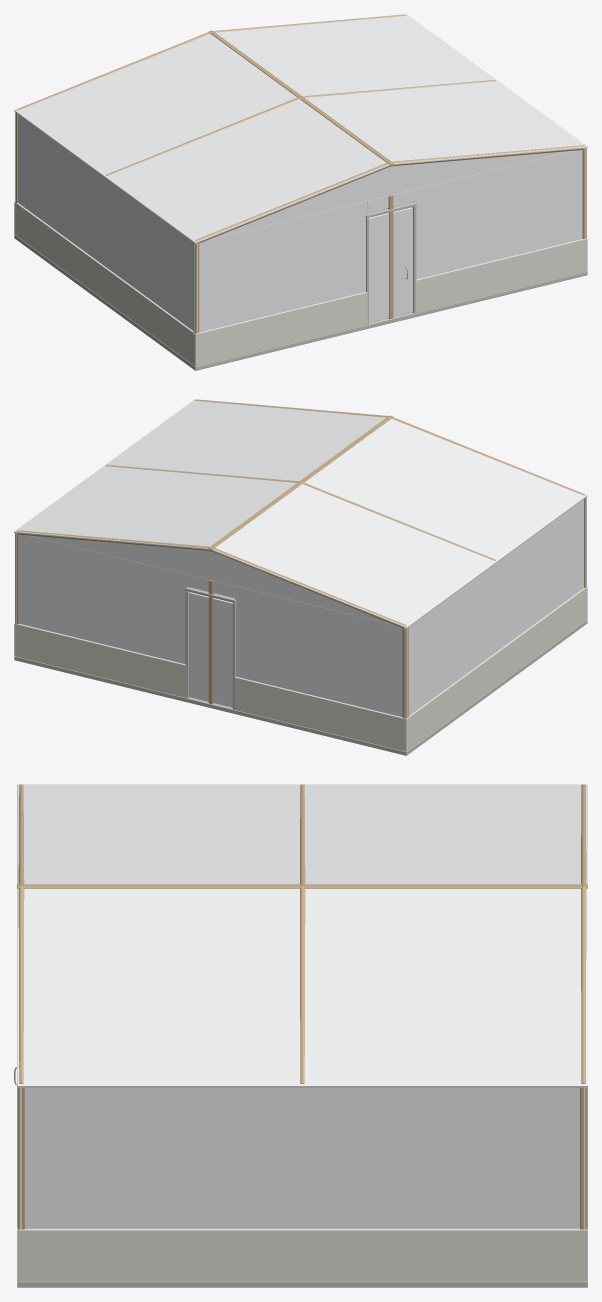
File: hearing-aid-and-audiology-clinic-roofed-audiology-clin-9c9c6f67__31717.glb
The picture shows the model from 3 angles, top to bottom: view 1: azimuth 30°, elevation 25°; view 2: azimuth 150°, elevation 25°; view 3: azimuth 270°, elevation 25°; orthographic projection. The views are drawn at different scales.
Visible parts, largest first — view 1: roofed-audiology-clinic; view 2: roofed-audiology-clinic; view 3: roofed-audiology-clinic.
Part boxes in pixels (bbox=[...]): roofed-audiology-clinic: bbox=[14, 14, 587, 370]; roofed-audiology-clinic: bbox=[14, 399, 587, 755]; roofed-audiology-clinic: bbox=[14, 784, 587, 1287].
Size of the model in its own units: 10.01 by 3.9 by 8.05.
